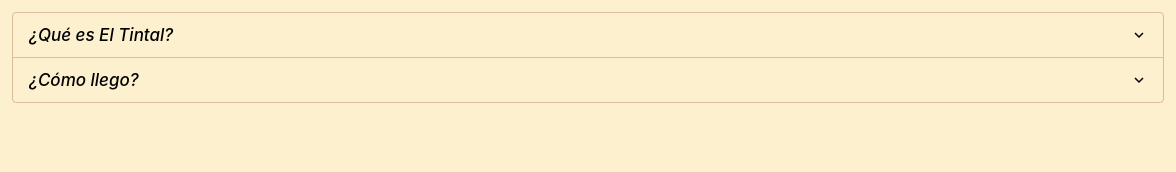
Scenario: Accordion › modo simple: abrir uno cierra el otro; también funciona con teclado
Click the button "¿Qué es El Tintal?".
click(101, 35)  # box [13, 13, 1163, 57]
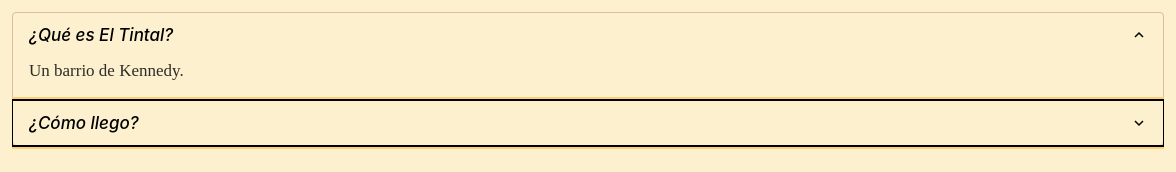
Press Enter
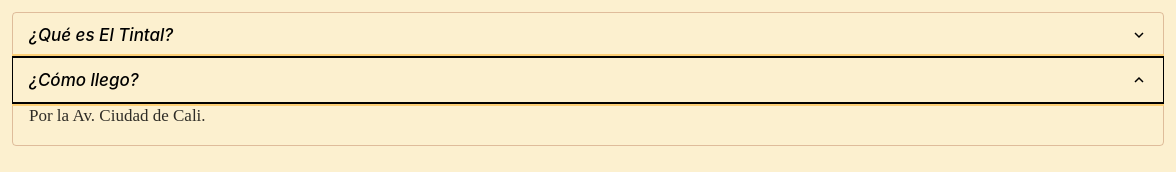
Check: the button "¿Qué es El Tintal?" is collapsed, box [13, 13, 1163, 57]
Check: the button "¿Cómo llego?" is expanded, box [13, 58, 1163, 102]
